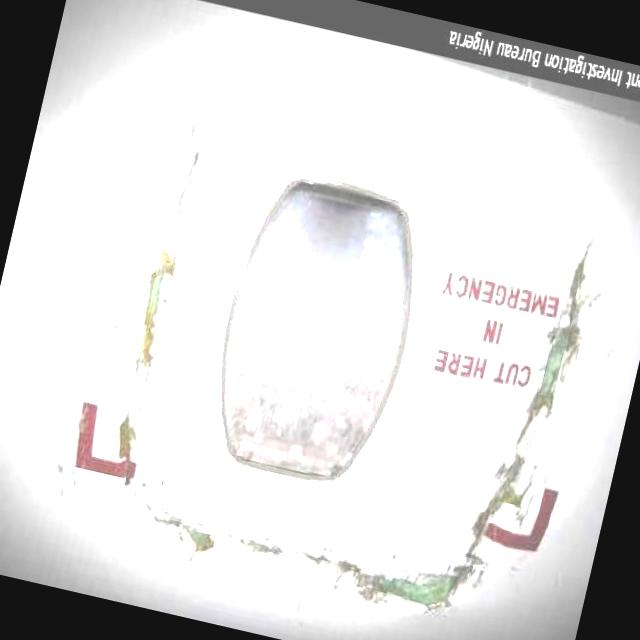crack: (458, 222, 618, 584), (129, 496, 467, 621), (118, 120, 210, 390)
